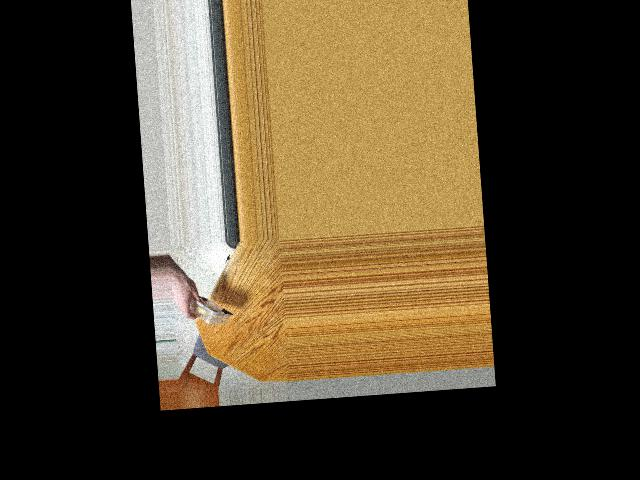cheese: (177, 278, 224, 339)
